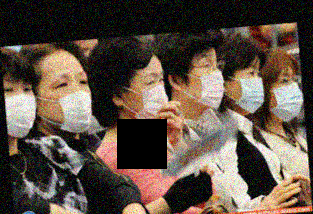with_mask: (40, 70, 93, 134), (125, 69, 170, 126), (183, 52, 225, 108), (5, 75, 37, 138), (228, 64, 266, 114), (270, 71, 304, 122)
